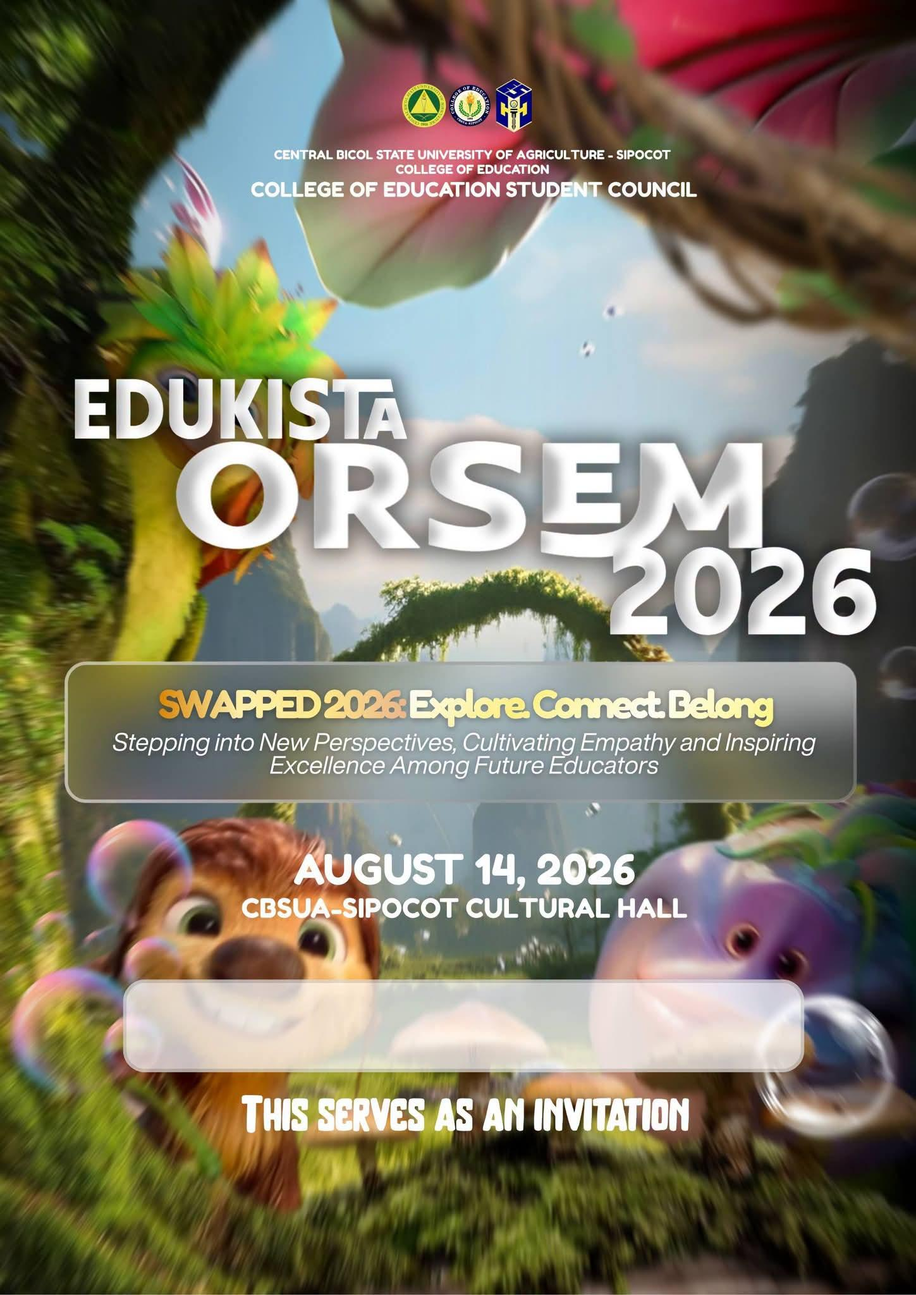logo: (492, 75, 537, 134), (399, 80, 448, 129), (448, 82, 492, 129)
text: (168, 435, 882, 641), (109, 722, 822, 783), (236, 846, 697, 927), (152, 679, 781, 728), (249, 145, 703, 203), (66, 372, 417, 443), (235, 1085, 695, 1138)
underlay: (64, 659, 858, 803), (124, 979, 807, 1074)
